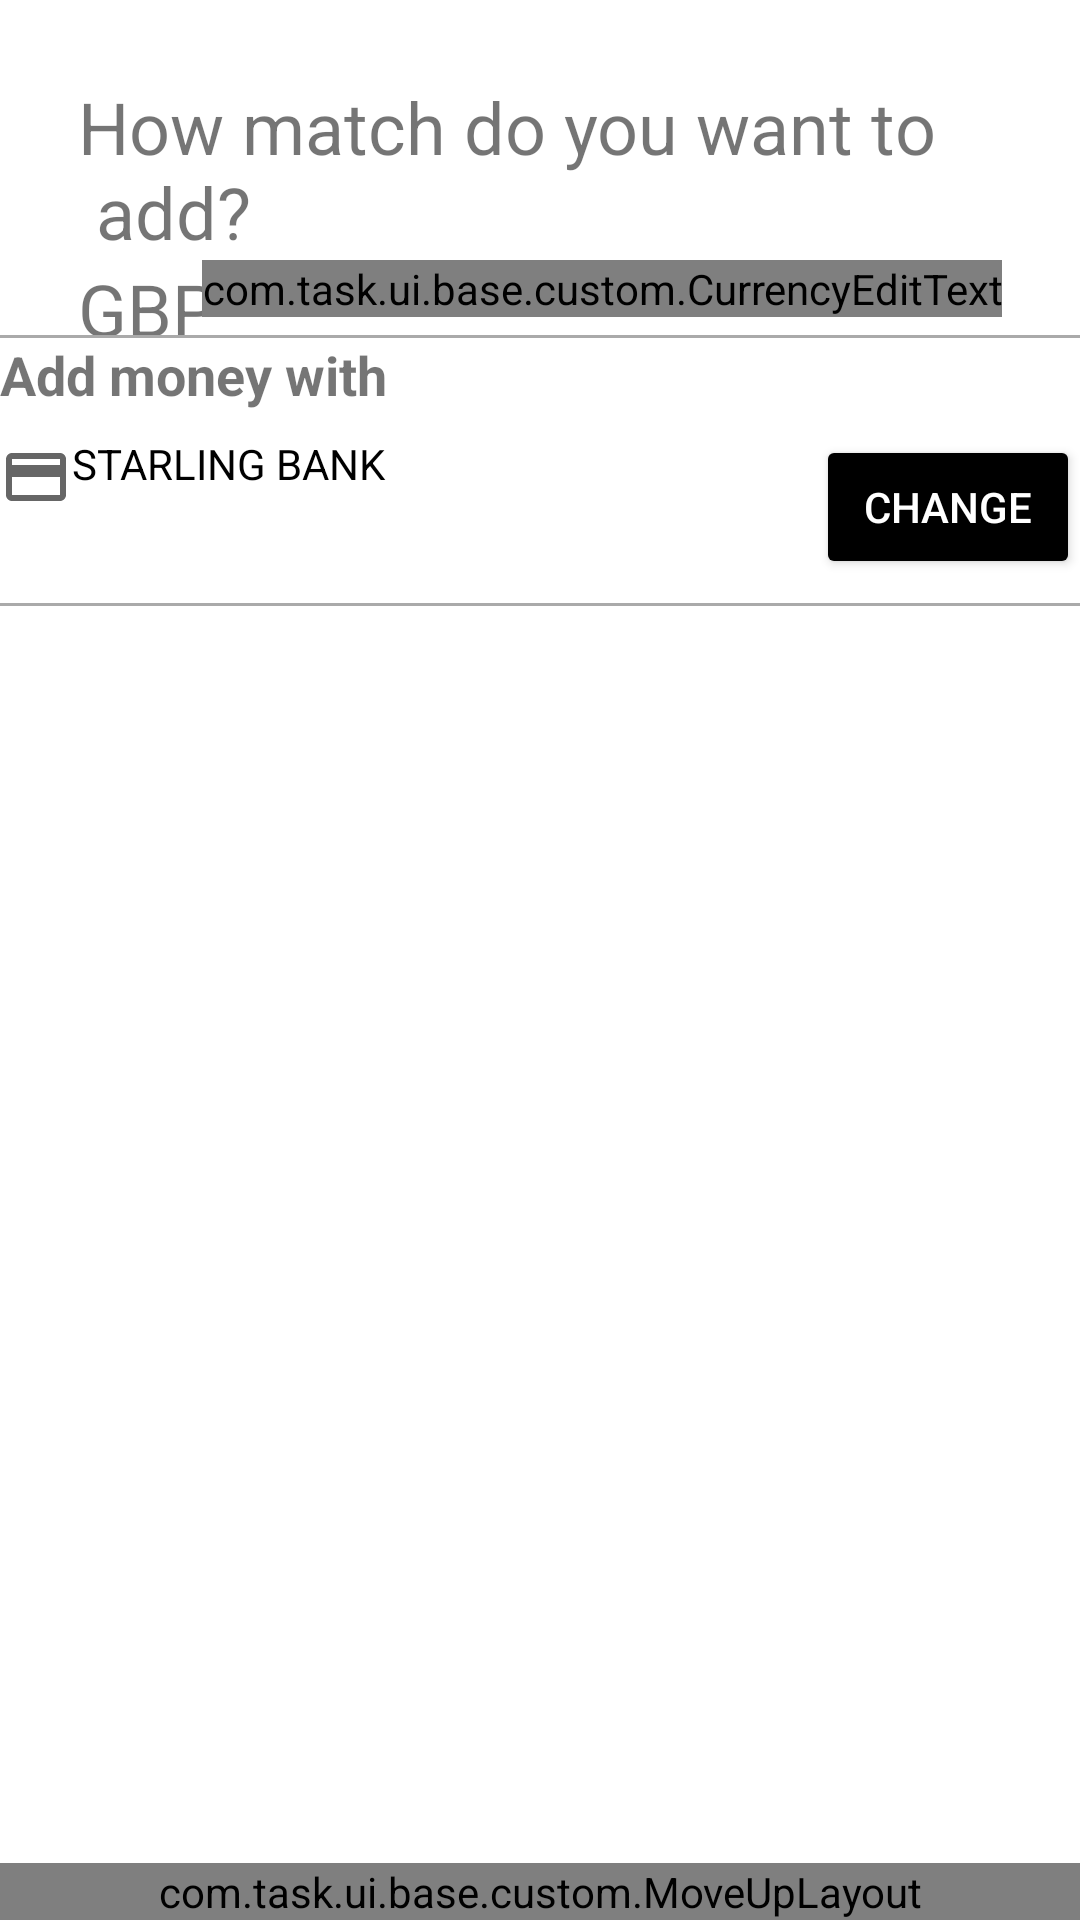

Icons on this 1080x1920 Android screen, each with its box as (x1, y1, x2, y2):
credit card: (6, 453, 66, 501)
